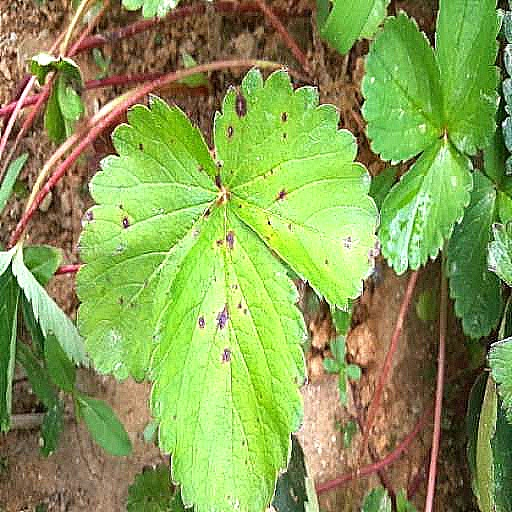Leaf Spot: (202, 195, 365, 511), (292, 92, 439, 384), (130, 64, 299, 314)
